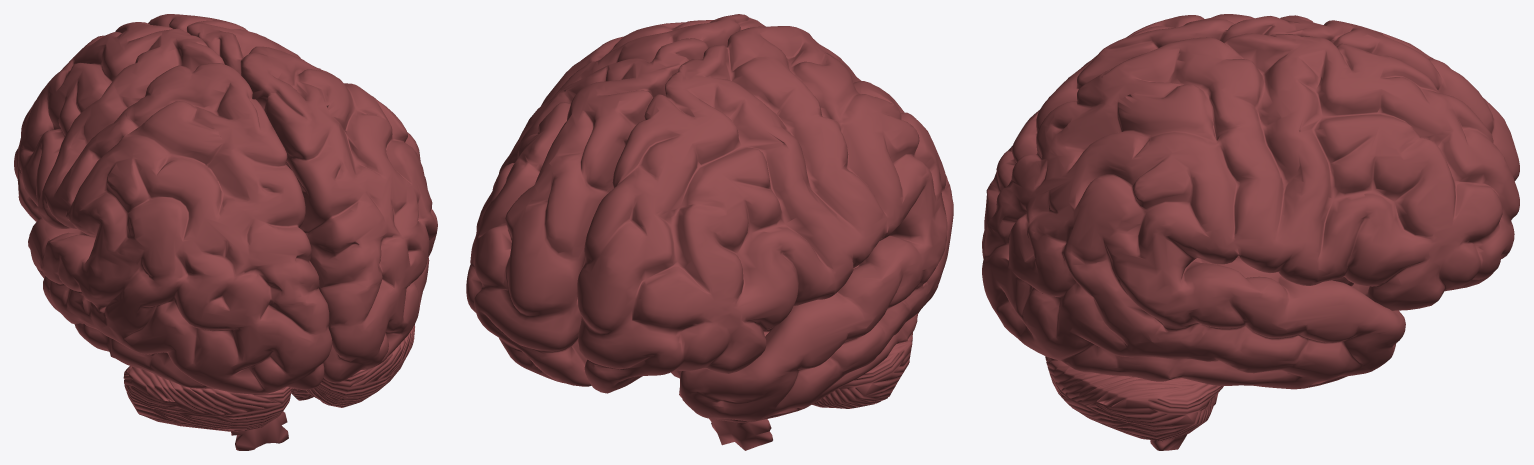
Rendered from brain.gltf.
3 views of the same model, side by side, from view 1: azimuth 30°, elevation 25°; view 2: azimuth 150°, elevation 25°; view 3: azimuth 270°, elevation 25° (orthographic). The views are drawn at different scales.
Parts seen in each view (by area): view 1: Brain; view 2: Brain; view 3: Brain.
Boxes of the visible parts, x1,y1,x2,y2 form: Brain: [14, 14, 437, 450]; Brain: [466, 14, 953, 450]; Brain: [982, 14, 1519, 450].
Size of the model in its own units: 3.8 by 4.02 by 4.73.
